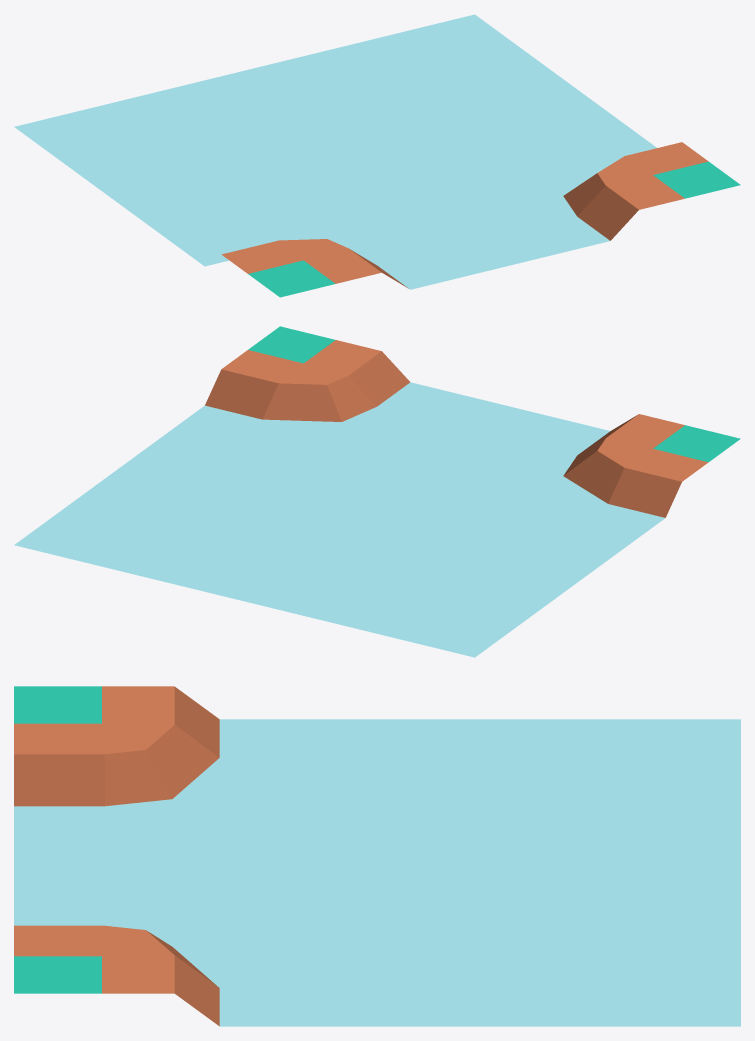
Rendered from ground_riverSideOpen.glb.
3 views of the same model, one above another, from view 1: azimuth 30°, elevation 25°; view 2: azimuth 150°, elevation 25°; view 3: azimuth 270°, elevation 25° (orthographic). The views are drawn at different scales.
Parts seen in each view (by area): view 1: ground_riverSideOpen; view 2: ground_riverSideOpen; view 3: ground_riverSideOpen.
Boxes of the visible parts, <box> form: ground_riverSideOpen: <box>14,14,740,297</box>; ground_riverSideOpen: <box>14,326,740,657</box>; ground_riverSideOpen: <box>14,686,740,1026</box>.
Size of the model in its own units: 1 by 0.05 by 1.
